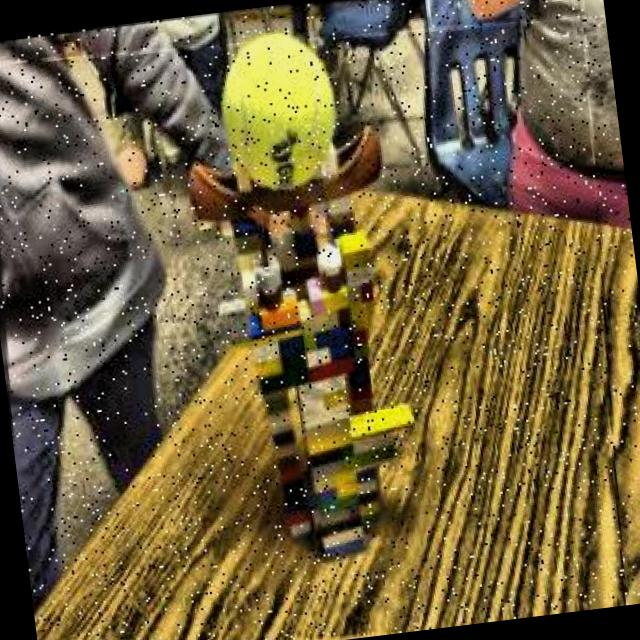Tennis Ball: (206, 22, 351, 203)
